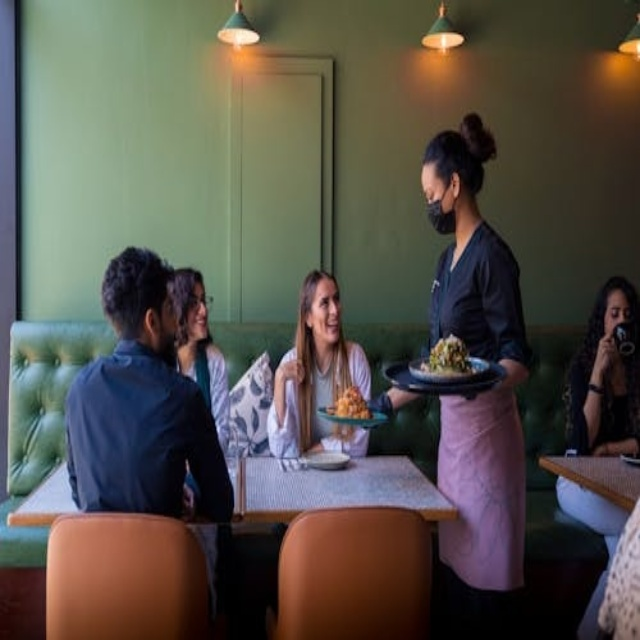Gafas: (187, 288, 215, 306)
Mascara: (426, 182, 456, 234)
Sin_gafas: (314, 283, 343, 311), (422, 171, 440, 202), (604, 300, 626, 317), (160, 294, 177, 315)
Sin_guantes: (274, 346, 307, 392), (589, 329, 617, 371)
Sin_mascara: (189, 309, 214, 329), (319, 313, 343, 331)
